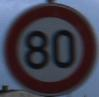Speed Limit -80-: (1, 0, 98, 96)
